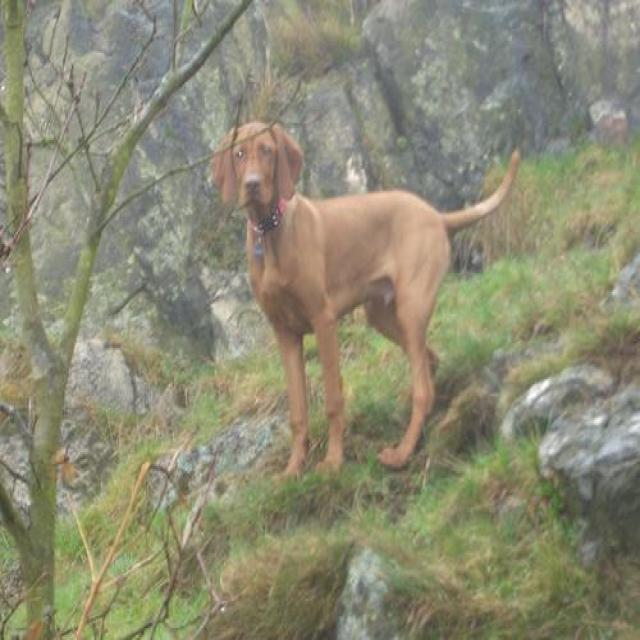vizsla: (205, 121, 517, 475)
